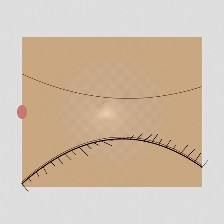pterygium_lesion: (20, 86, 87, 138)
